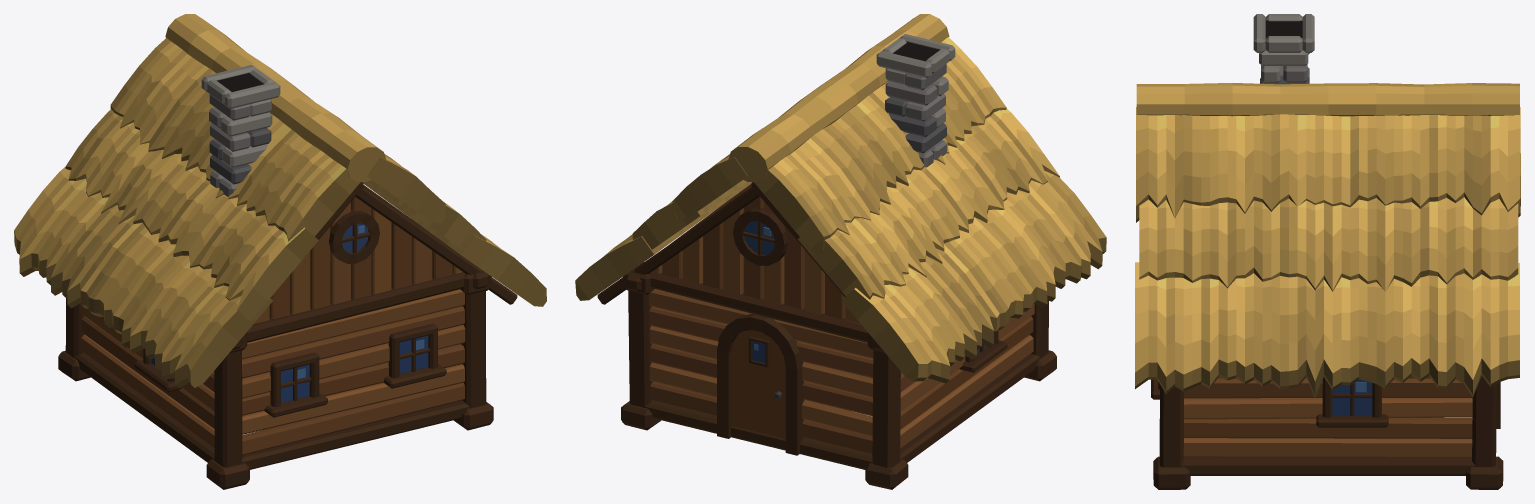
File: house-a.glb
3 views of the same model, side by side, from view 1: azimuth 30°, elevation 25°; view 2: azimuth 150°, elevation 25°; view 3: azimuth 270°, elevation 25° (orthographic). The views are drawn at different scales.
Visible parts, largest first — view 1: TownToonHouse; view 2: TownToonHouse; view 3: TownToonHouse.
Part boxes in pixels (box(x1,y1,x2,y2)): TownToonHouse: box(14, 14, 546, 489); TownToonHouse: box(575, 14, 1106, 489); TownToonHouse: box(1135, 14, 1520, 489).
Size of the model in its own units: 5.61 by 5.04 by 4.81.
